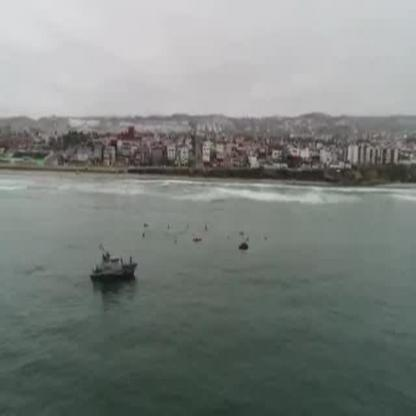Boat: (90, 244, 137, 290)
